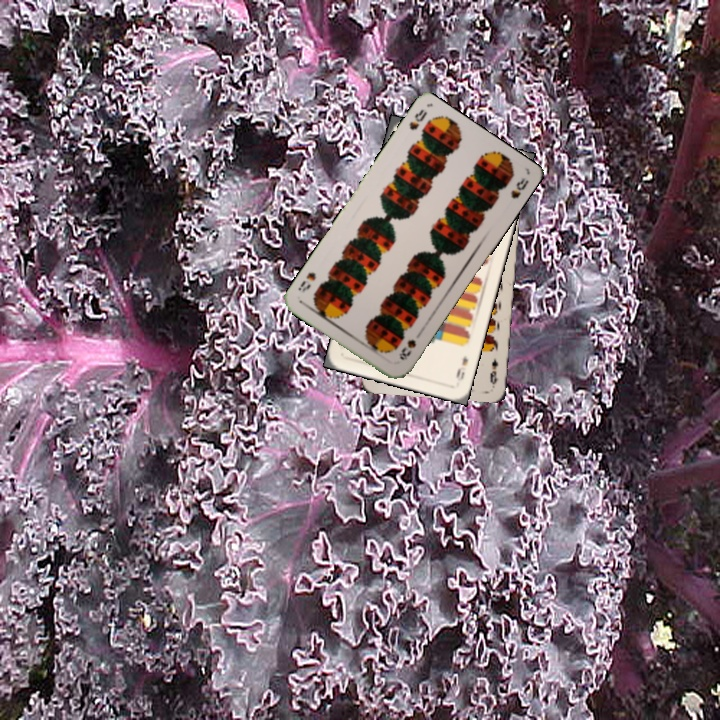E9: (452, 352, 470, 382), (486, 354, 501, 387)
S8: (405, 105, 430, 133), (395, 335, 419, 363)
